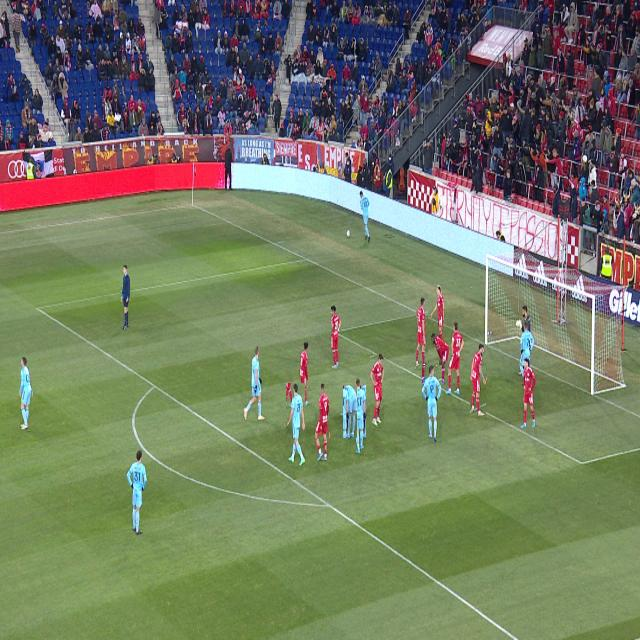goalkeeper: (522, 306, 530, 332), (516, 319, 524, 332), (518, 371, 522, 375), (529, 340, 531, 348), (528, 359, 530, 367)
player: (126, 450, 147, 534), (422, 365, 442, 443), (244, 346, 265, 420), (287, 384, 305, 466), (445, 322, 464, 394), (520, 358, 536, 428), (471, 344, 486, 417), (352, 379, 366, 454), (370, 354, 384, 426), (316, 384, 329, 460), (519, 322, 534, 385), (431, 333, 449, 385), (20, 357, 32, 430), (416, 297, 428, 369), (430, 284, 444, 340), (344, 386, 357, 438), (331, 305, 341, 369), (300, 342, 309, 407)
referee: (121, 265, 130, 330)
